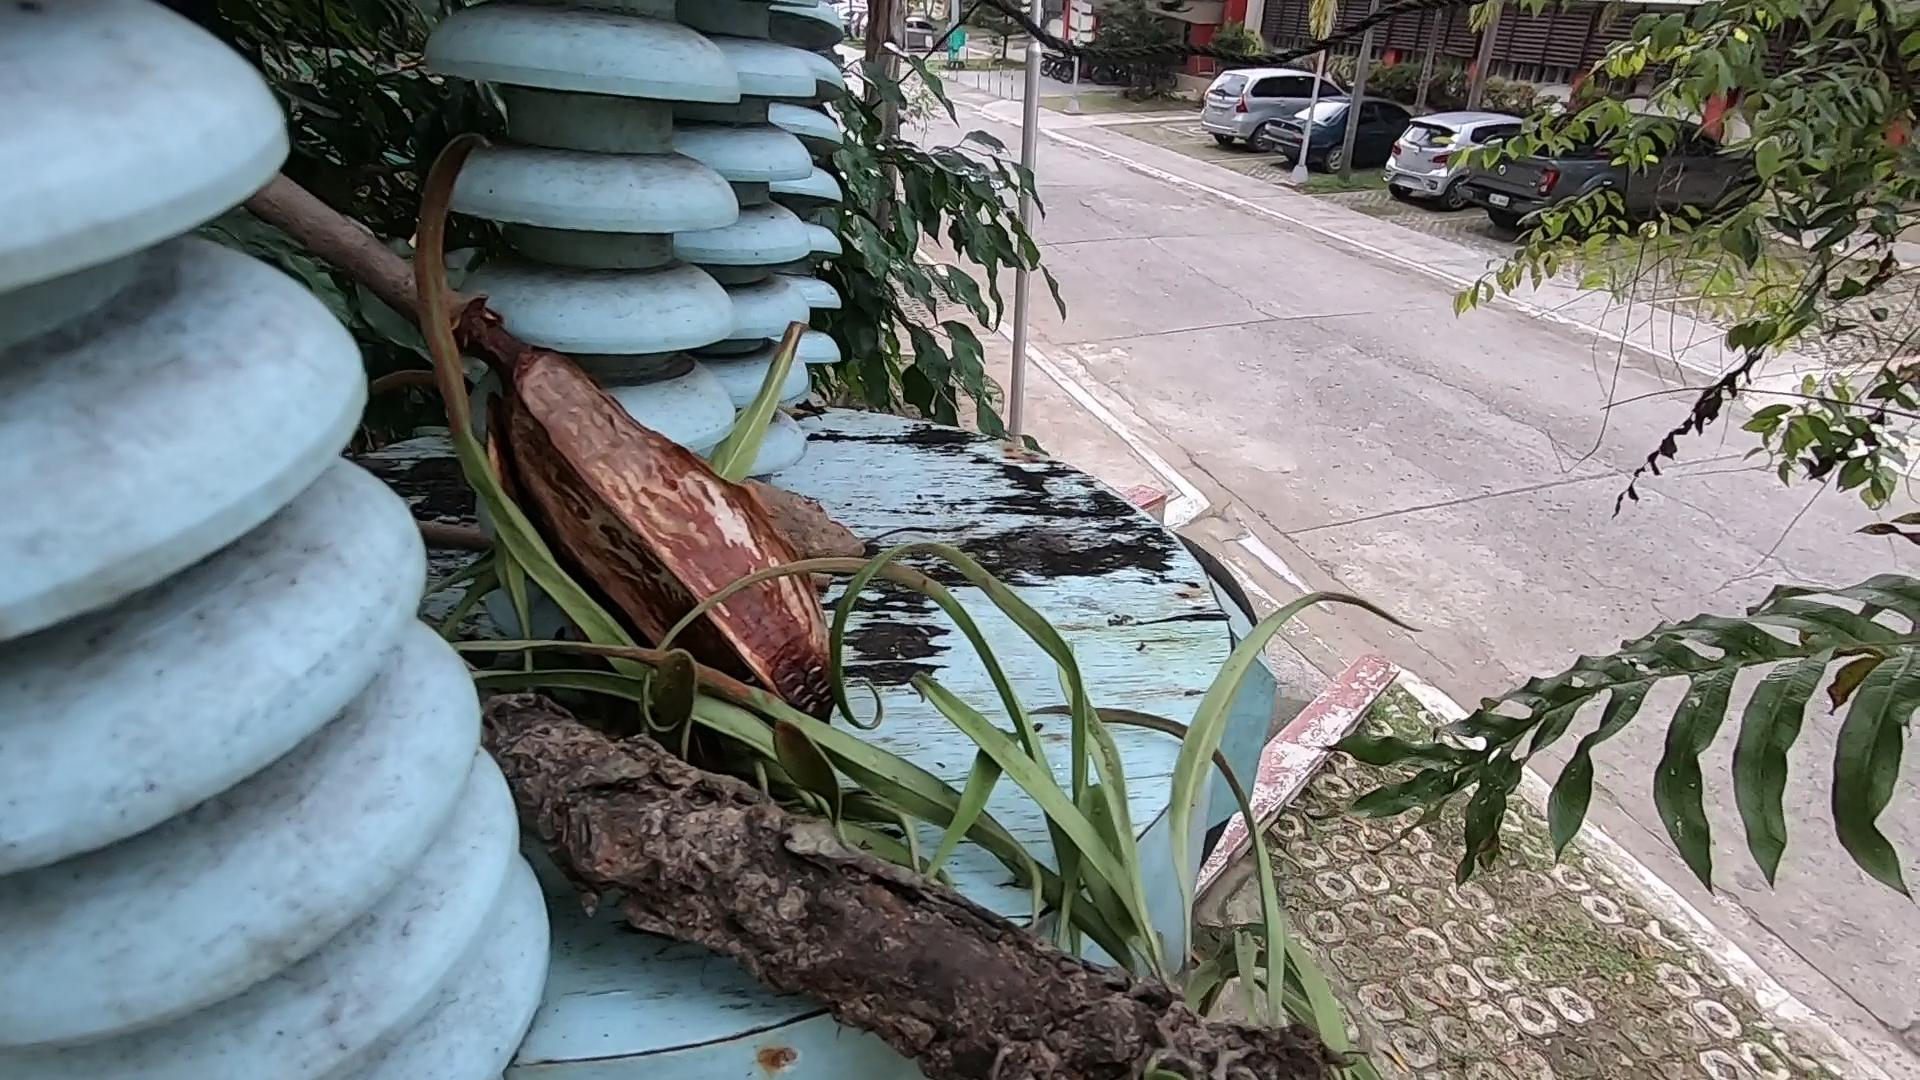branch with leaves: (491, 736, 1247, 1080)
mahogany fruit: (368, 349, 1141, 696)
tree branch: (264, 186, 472, 400)
